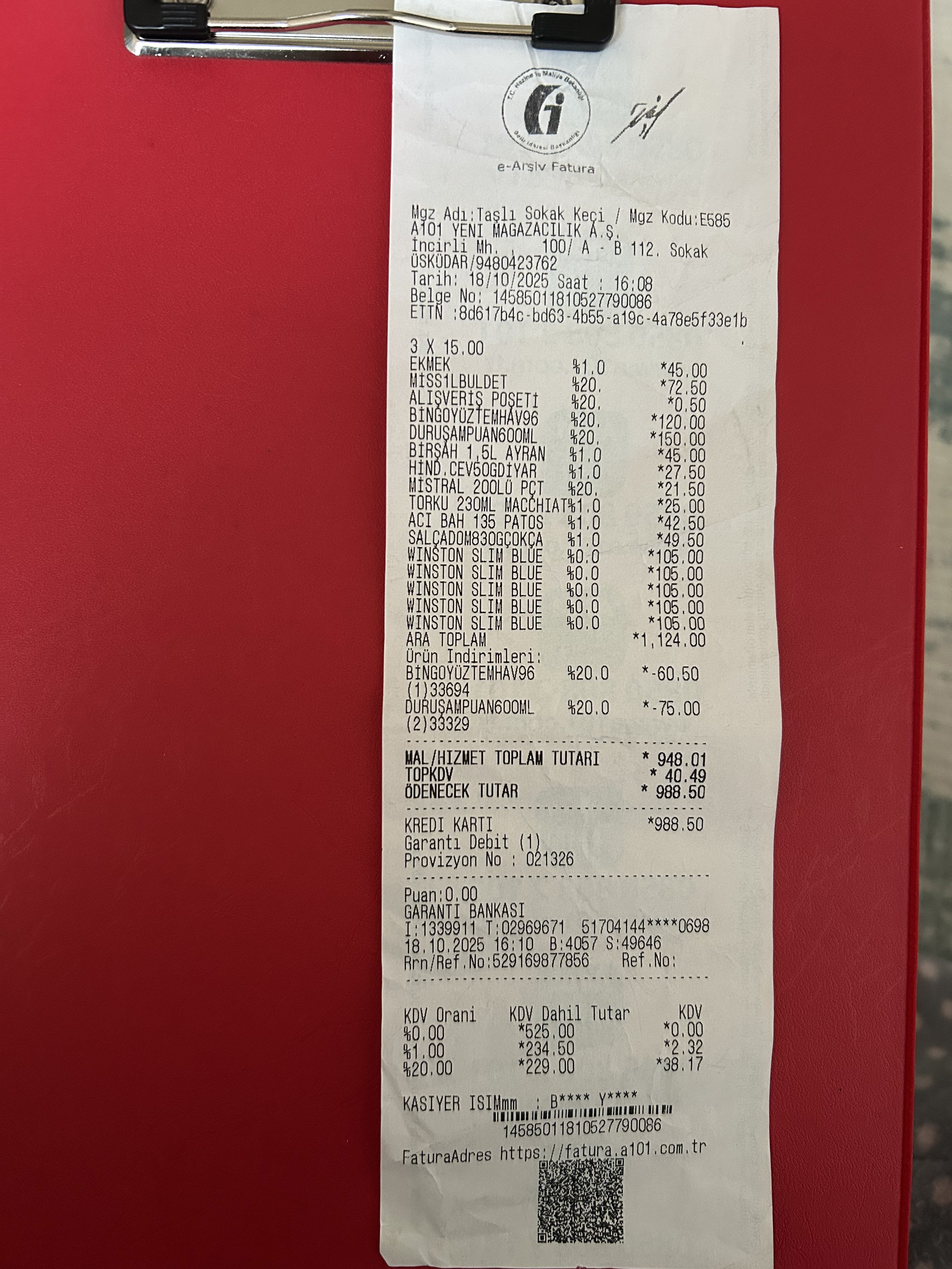date: (652, 781, 711, 802)
price: (464, 271, 551, 289)
workplace: (405, 201, 743, 261)
